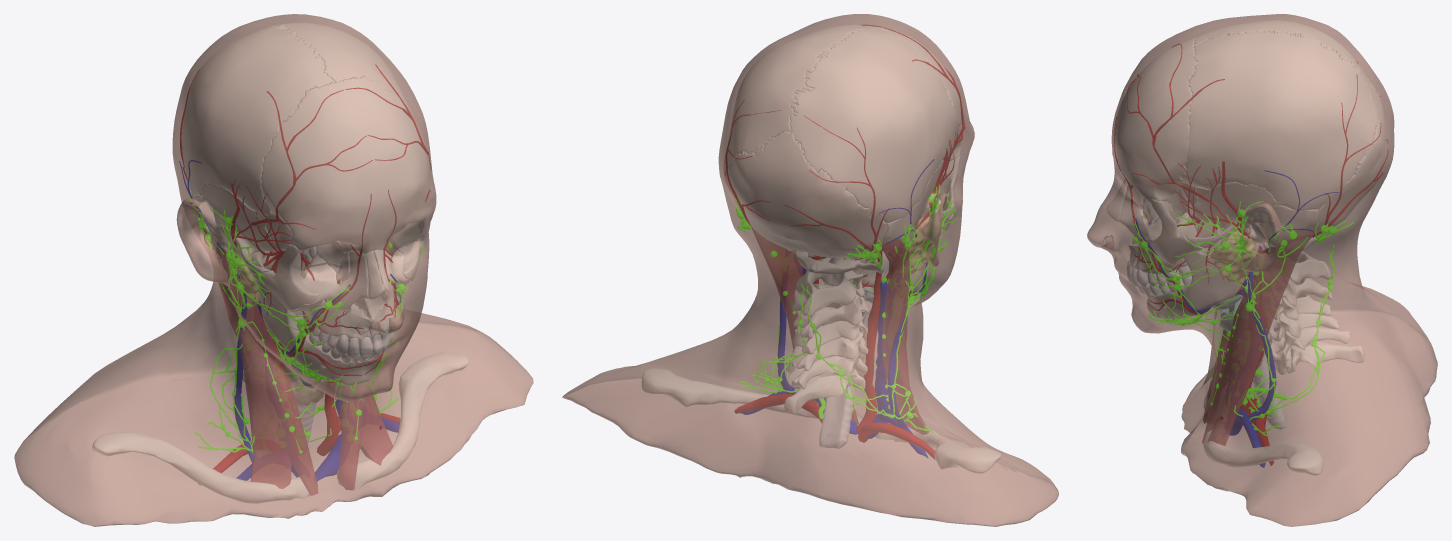
The model's file is Cancer.gltf.
3 renders of one model, left to right at view 1: azimuth 30°, elevation 25°; view 2: azimuth 150°, elevation 25°; view 3: azimuth 270°, elevation 25°, orthographic. The views are drawn at different scales.
Visible parts, largest first — view 1: Object_4, Object_40, Object_6, Object_30, Object_37, Object_45, Object_17, Object_21, Object_13, Object_46, Object_51, Object_53 (+4 smaller); view 2: Object_4, Object_40, Object_6, Object_30, Object_17, Object_38, Object_29, Object_27, Object_45, Object_55, Object_35, Object_33 (+9 smaller); view 3: Object_4, Object_40, Object_6, Object_37, Object_30, Object_45, Object_38, Object_29, Object_46, Object_25, Object_36, Object_21 (+11 smaller).
Part boxes in pixels (x1,y1,x2,y2): Object_4: [14, 14, 533, 526]; Object_40: [182, 23, 430, 340]; Object_6: [203, 228, 392, 495]; Object_30: [92, 352, 468, 503]; Object_37: [252, 251, 380, 385]; Object_45: [188, 196, 422, 442]; Object_17: [198, 251, 400, 485]; Object_21: [297, 314, 394, 364]; Object_13: [252, 64, 430, 277]; Object_46: [190, 197, 400, 392]; Object_51: [194, 247, 397, 453]; Object_53: [237, 274, 400, 481]; Object_4: [562, 14, 1058, 526]; Object_40: [727, 25, 961, 257]; Object_6: [752, 228, 929, 434]; Object_30: [642, 368, 1001, 473]; Object_17: [734, 252, 934, 459]; Object_38: [792, 283, 869, 353]; Object_29: [784, 362, 865, 414]; Object_27: [819, 386, 855, 448]; Object_45: [735, 193, 955, 418]; Object_55: [777, 159, 934, 429]; Object_35: [796, 258, 864, 316]; Object_33: [793, 327, 867, 370]; Object_4: [1087, 14, 1437, 526]; Object_40: [1107, 20, 1384, 273]; Object_6: [1202, 228, 1316, 445]; Object_37: [1144, 229, 1246, 319]; Object_30: [1203, 314, 1323, 475]; Object_45: [1132, 201, 1353, 418]; Object_38: [1273, 278, 1331, 319]; Object_29: [1132, 224, 1364, 374]; Object_46: [1133, 201, 1351, 352]; Object_25: [1210, 230, 1255, 283]; Object_36: [1267, 326, 1350, 359]; Object_21: [1127, 260, 1191, 295].
Bounding box in the file's own units: 378 × 330 × 254.
Materials: 11 (4 with a texture image).
